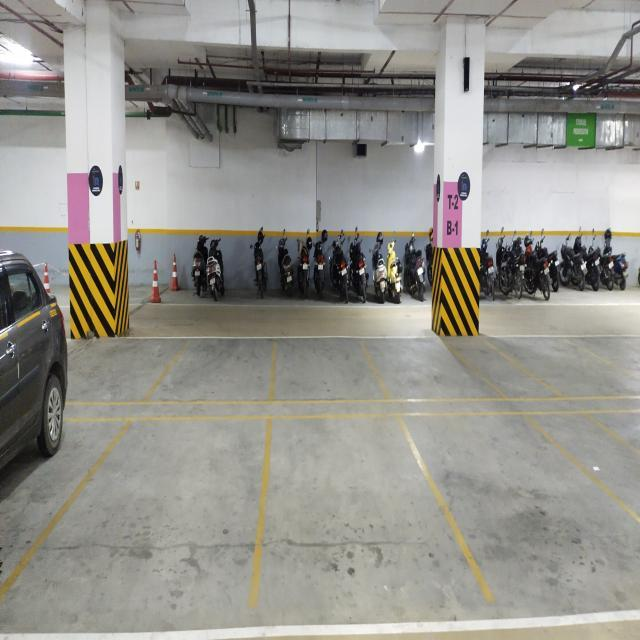car: (1, 362, 62, 532)
free: (266, 434, 412, 624), (105, 422, 238, 620), (452, 431, 596, 602), (170, 342, 268, 410), (268, 346, 359, 408), (368, 341, 466, 398), (88, 333, 146, 403)
